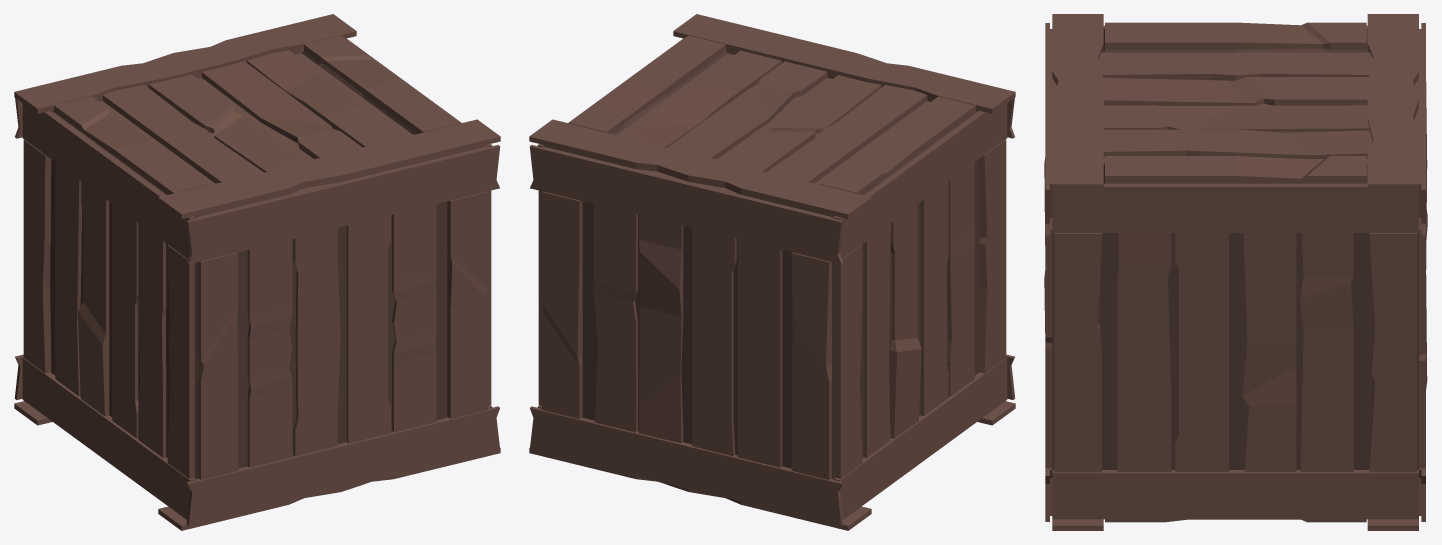
File: Crate.glb
The picture shows the model from 3 angles, left to right: view 1: azimuth 30°, elevation 25°; view 2: azimuth 150°, elevation 25°; view 3: azimuth 270°, elevation 25°; orthographic projection. The views are drawn at different scales.
Parts seen in each view (by area): view 1: Crate; view 2: Crate; view 3: Crate.
Boxes of the visible parts, x1,y1,x2,y2 form: Crate: (14, 14, 500, 530); Crate: (529, 14, 1015, 530); Crate: (1044, 14, 1427, 530).
Size of the model in its own units: 1.38 by 1.31 by 1.31.
